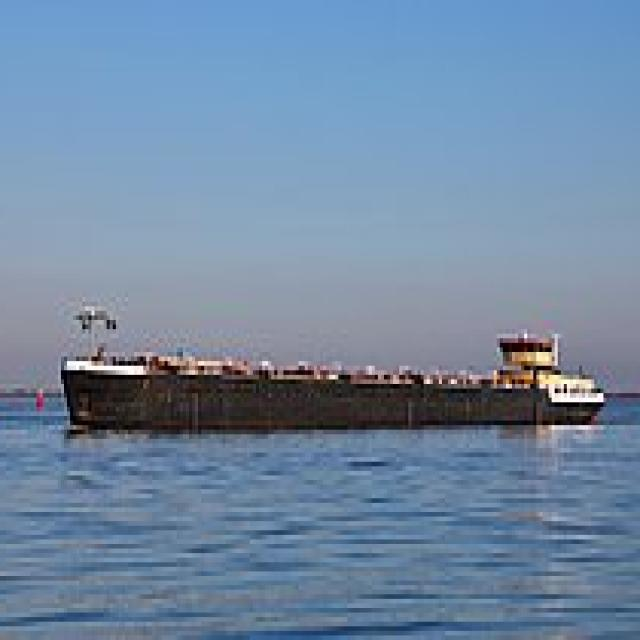Tanker: (64, 297, 610, 425)
